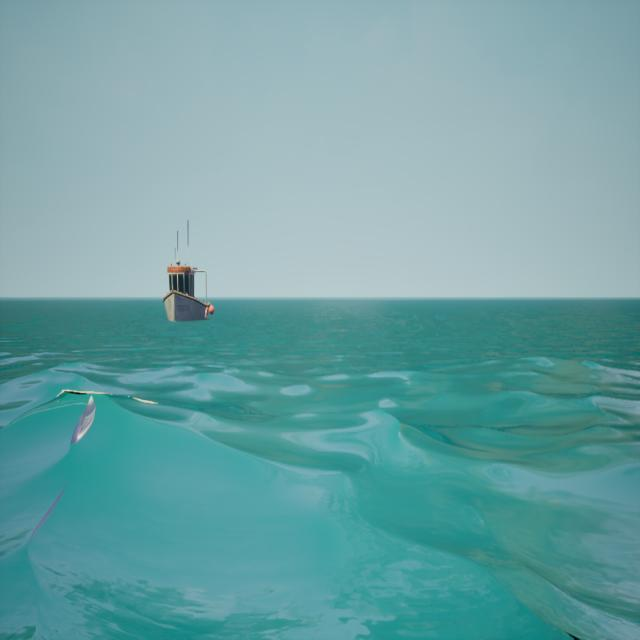ship: (160, 213, 216, 327)
